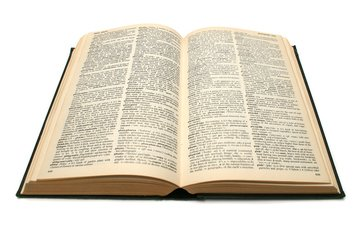Open Book: (19, 27, 342, 204)
